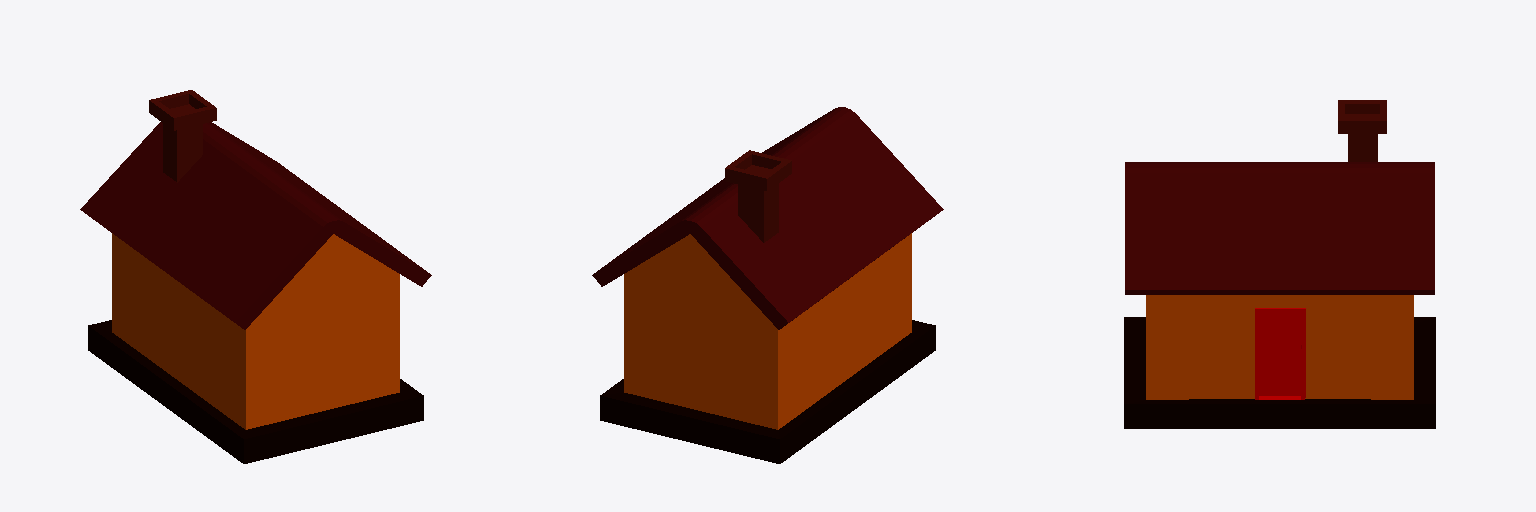
The model's file is Casa.obj.
The picture shows the model from 3 angles: view 1: azimuth 30°, elevation 25°; view 2: azimuth 150°, elevation 25°; view 3: azimuth 270°, elevation 25°; orthographic projection.
Visible parts, largest first — view 1: Casa_Cube.004; view 2: Casa_Cube.004; view 3: Casa_Cube.004.
Boxes of the visible parts, x1=… form: Casa_Cube.004: x1=80, y1=90, x2=431, y2=463; Casa_Cube.004: x1=592, y1=107, x2=943, y2=463; Casa_Cube.004: x1=1124, y1=100, x2=1435, y2=428.
Bounding box in the file's own units: 5.1 × 6.42 × 7.